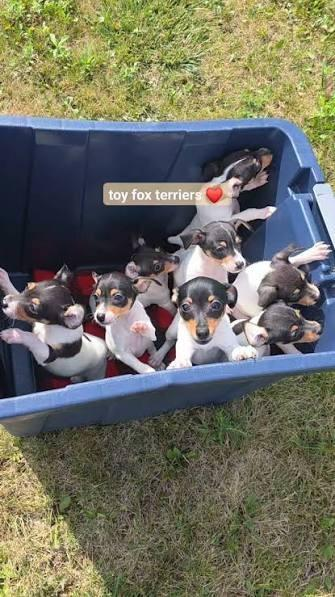puppy-dog: (0, 263, 108, 387), (166, 207, 276, 314), (166, 147, 276, 251), (78, 266, 172, 376), (165, 276, 269, 371), (123, 235, 184, 339), (246, 241, 332, 314), (237, 296, 324, 357)
